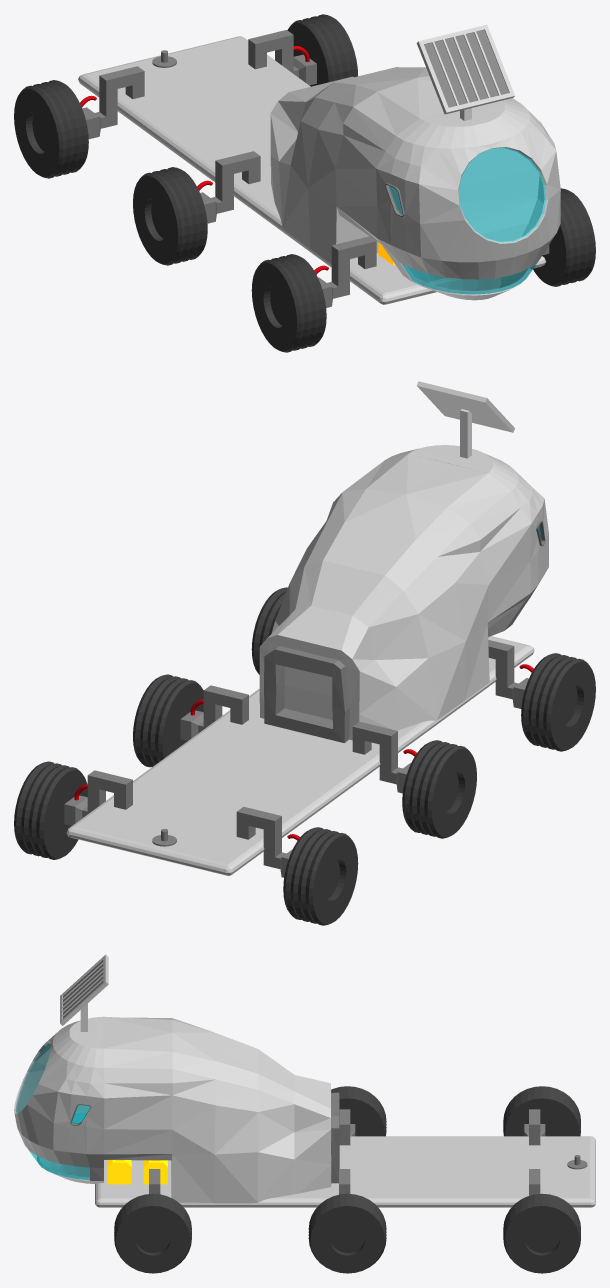
Rendered from truk.fbx.
The picture shows the model from 3 angles, top to bottom: view 1: azimuth 30°, elevation 25°; view 2: azimuth 150°, elevation 25°; view 3: azimuth 270°, elevation 25°; orthographic projection. The views are drawn at different scales.
Parts seen in each view (by area): view 1: Cabine, Cube.002, ShockAbsorbers, WindowFront, TireFR, TireBR, TireMR, Cube.013, TireFL, TireBL, WindowBottom; view 2: Cabine, Cube.002, ShockAbsorbers, TireBR, TireFR, TireMR, TireBL, TireML, Cube.013, TireFL; view 3: Cabine, Cube.002, TireML, TireFL, TireBL, TireBR, ShockAbsorbers, TireMR, Cube.013, Cube.004, WindowFront, WindowBottom.
Part boxes in pixels (left/top/right/bottom): Cabine: left=270, top=67, right=560, bottom=300; Cube.002: left=78, top=36, right=545, bottom=304; ShockAbsorbers: left=82, top=30, right=549, bottom=307; WindowFront: left=459, top=148, right=546, bottom=242; TireFR: left=251, top=254, right=326, bottom=352; TireBR: left=14, top=80, right=88, bottom=178; TireMR: left=133, top=167, right=207, bottom=265; Cube.013: left=416, top=24, right=514, bottom=114; TireFL: left=533, top=188, right=595, bottom=286; TireBL: left=287, top=14, right=357, bottom=86; WindowBottom: left=402, top=261, right=538, bottom=294; Cabine: left=259, top=445, right=548, bottom=742; Cube.002: left=66, top=636, right=534, bottom=875; ShockAbsorbers: left=64, top=640, right=528, bottom=877; TireBR: left=283, top=827, right=358, bottom=925; TireFR: left=521, top=653, right=595, bottom=751; TireMR: left=402, top=740, right=476, bottom=838; TireBL: left=14, top=761, right=87, bottom=859; TireML: left=133, top=674, right=203, bottom=767; Cube.013: left=416, top=381, right=514, bottom=432; TireFL: left=251, top=587, right=287, bottom=674; Cabine: left=14, top=1016, right=339, bottom=1203; Cube.002: left=95, top=1136, right=595, bottom=1207; TireML: left=308, top=1193, right=386, bottom=1273; TireFL: left=114, top=1193, right=191, bottom=1273; TireBL: left=503, top=1193, right=580, bottom=1273; TireBR: left=503, top=1086, right=580, bottom=1136; ShockAbsorbers: left=149, top=1109, right=545, bottom=1195; TireMR: left=331, top=1086, right=386, bottom=1136; Cube.013: left=60, top=954, right=108, bottom=1025; Cube.004: left=107, top=1160, right=167, bottom=1184; WindowFront: left=16, top=1043, right=50, bottom=1112; WindowBottom: left=28, top=1113, right=89, bottom=1180.
Size of the model in its own units: 335 by 323 by 690.
